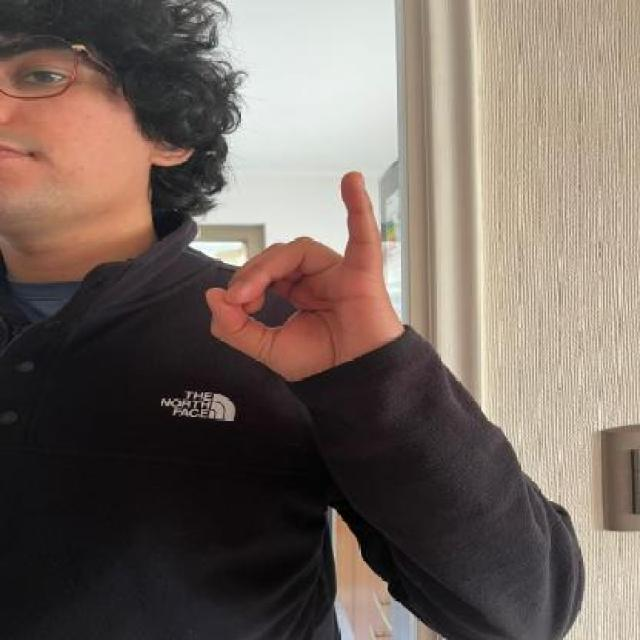D: (195, 158, 418, 388)
